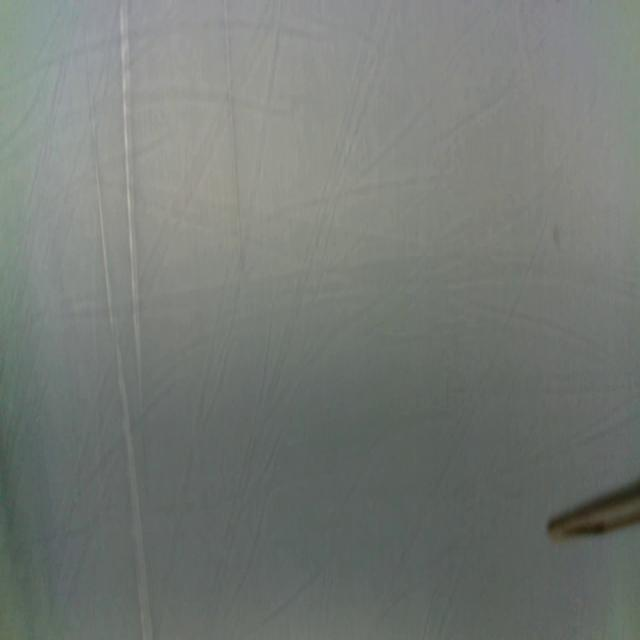crease: (116, 342, 156, 638), (119, 2, 142, 390), (86, 41, 115, 340), (224, 0, 243, 248)
